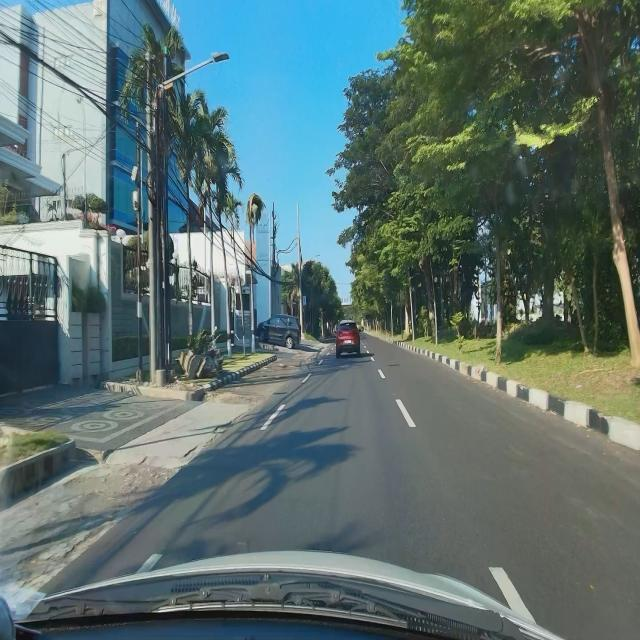car: (334, 317, 362, 359)
license-plate: (344, 339, 351, 344)
